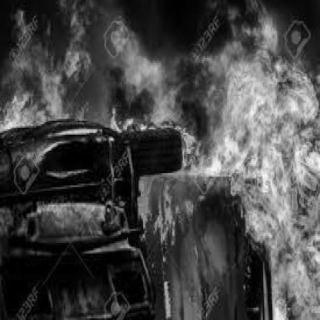Fire: (0, 0, 316, 314)
